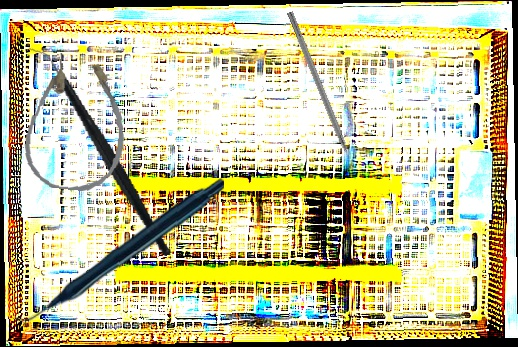Cannula: (20, 50, 133, 195)
Chopper: (26, 26, 172, 275)
Handpiece: (14, 173, 224, 328)
Hook Surgical: (285, 10, 360, 179)
